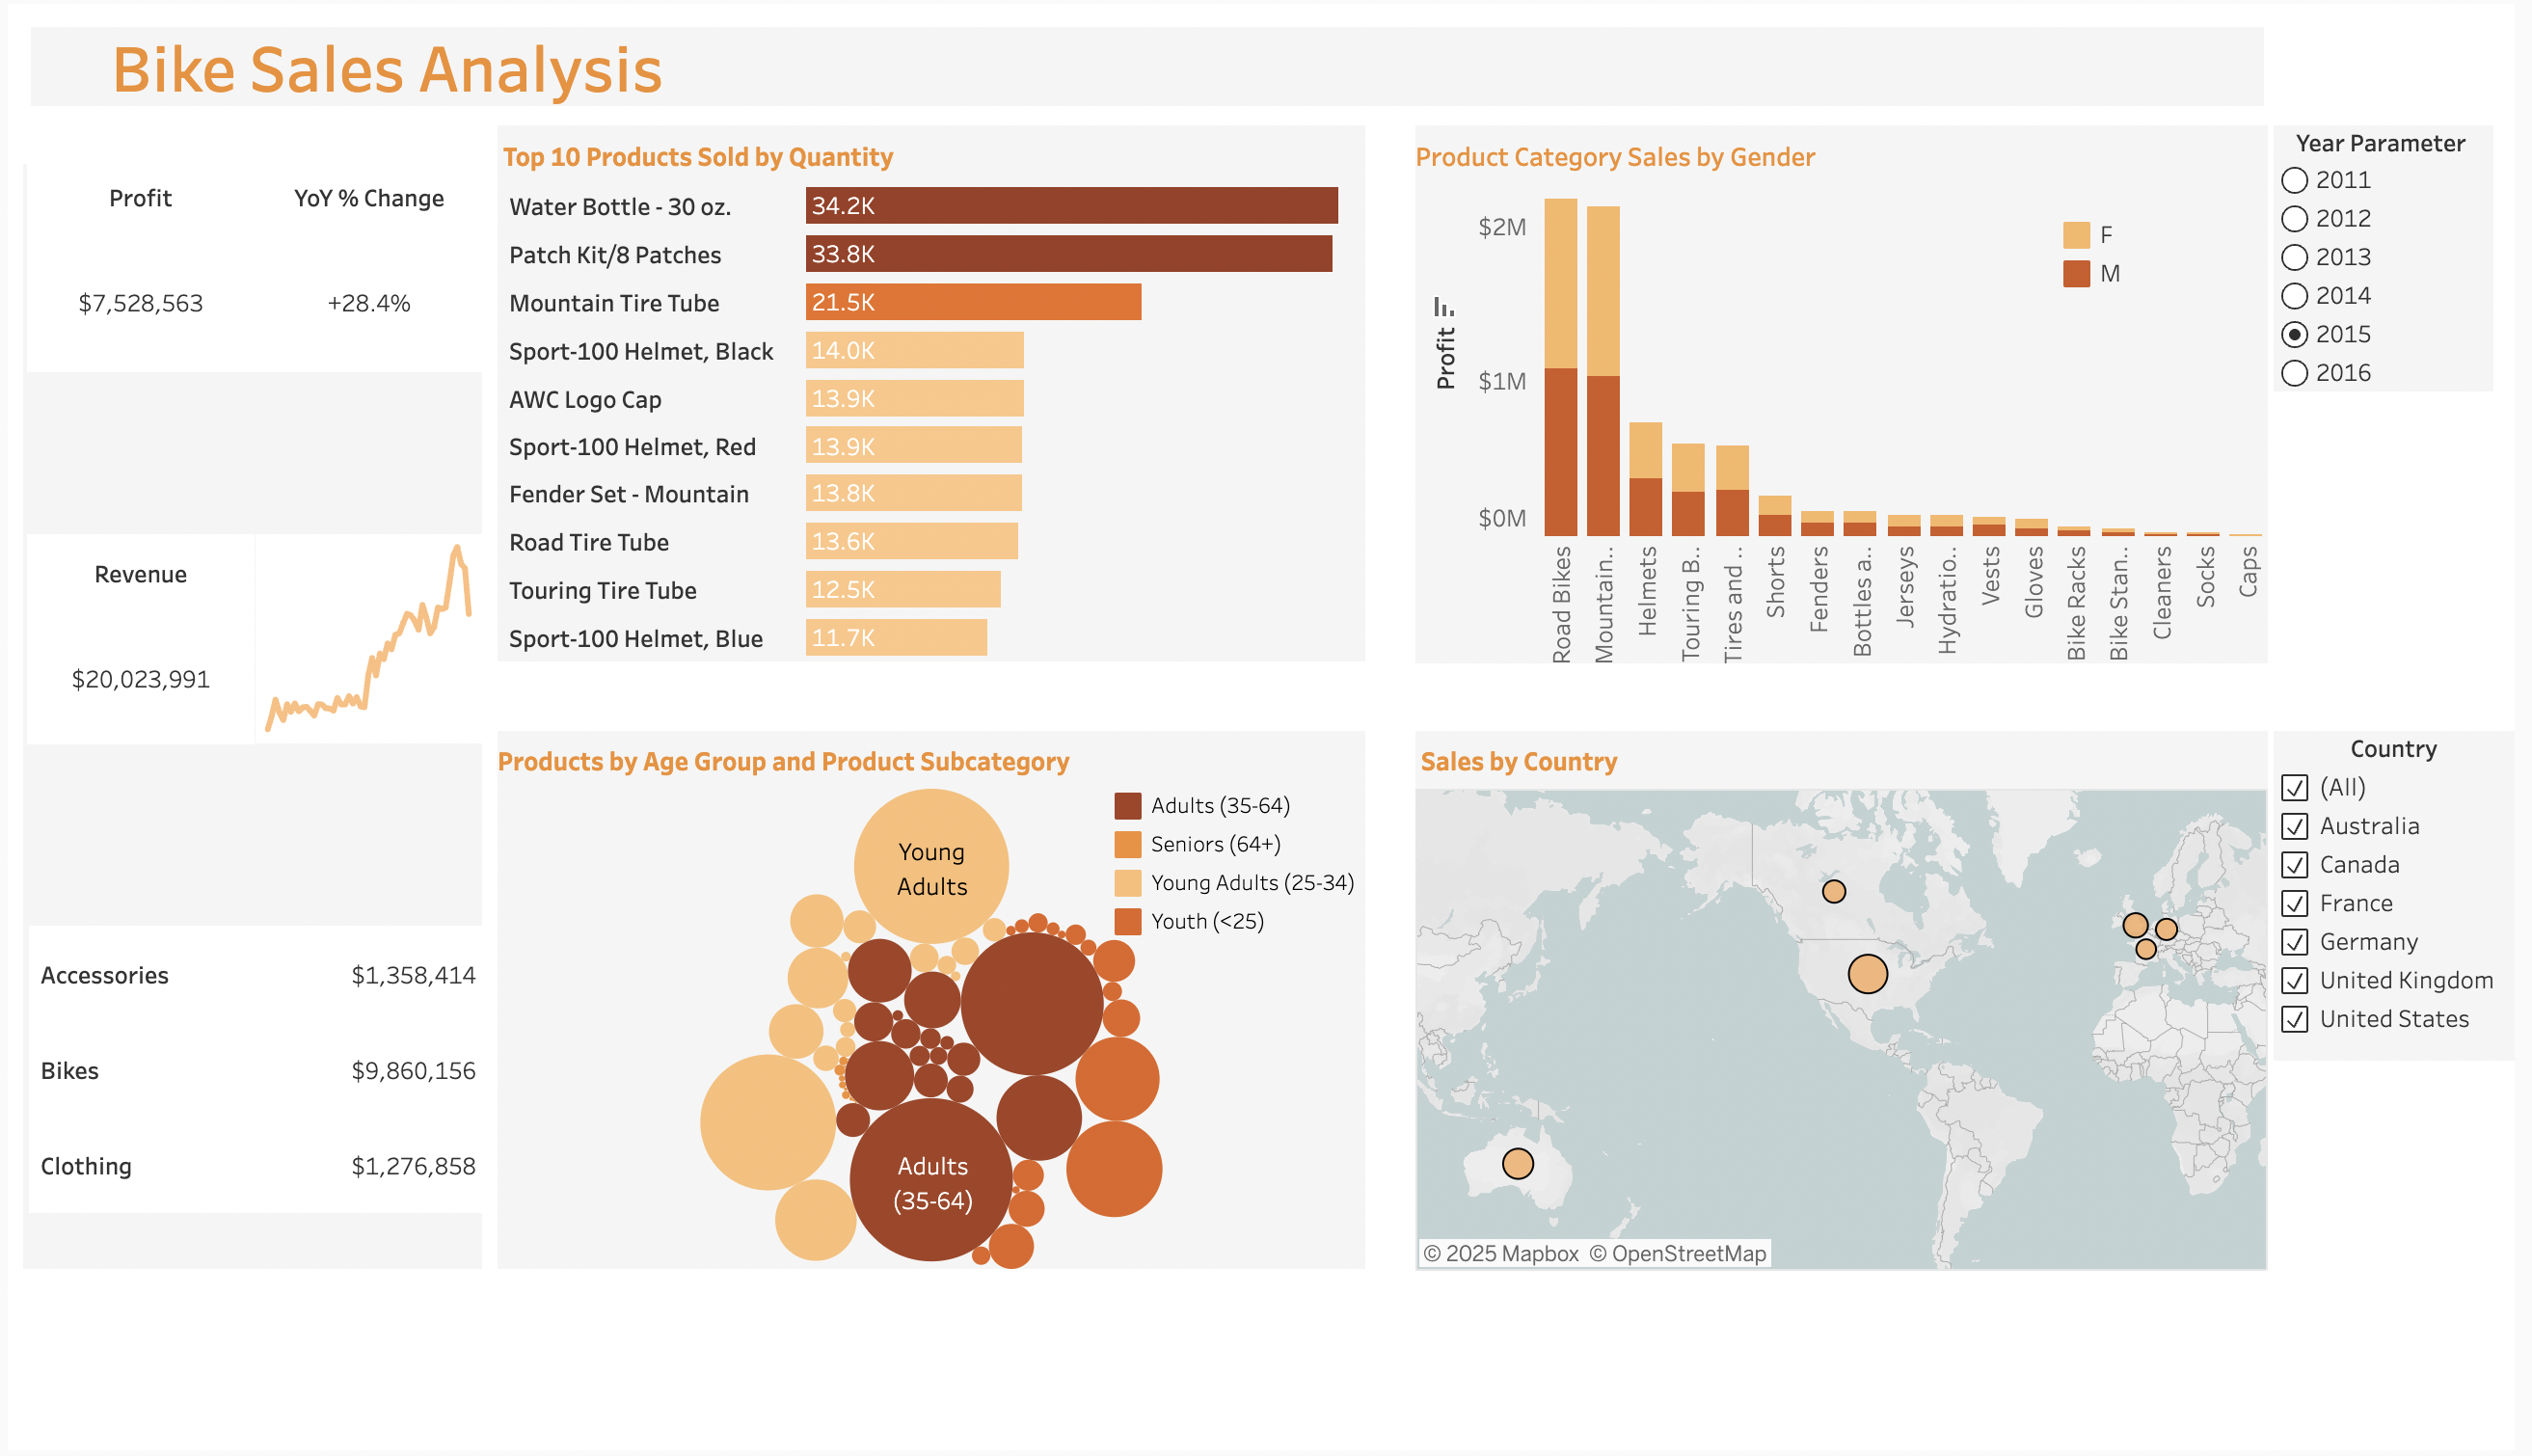

The dashboard page shown, as its layout file describes it:
{"tool":"tableau","page":{"name":"Bike Sales Dashboard","canvas":[1300,750],"ordinal":0},"visuals":[{"type":"title","box":[8,8,1166,49]},{"type":"blank","box":[8,57,1166,685]},{"type":"text","box":[254,63,450,31]},{"type":"text","box":[730,63,442,31]},{"type":"parameter","param":"[Parameters].[Parameter 1]","box":[1175,63,114,138]},{"type":"worksheet","title":"Profit Card","mark":"Automatic","cols":["Calculation_946600386631159809"],"box":[10,82.1,117.9,108.9]},{"type":"worksheet","title":"YoY % change","mark":"Automatic","cols":["Calculation_946600386635194375"],"box":[127.9,82.1,118.9,108.9]},{"type":"worksheet","title":"Top 10 Products","mark":"Bar","rows":["Product"],"box":[254,92,450,249]},{"type":"worksheet","title":"Sub Category Bar Chart","mark":"Automatic","rows":["Profit"],"cols":["Sub_Category"],"box":[730,92,442,250]},{"type":"legend","title":"Sub Category Bar Chart","param":"[federated.01sri0p02e0912140nq9t0uyowcr].[none:Customer_Gender:nk]","box":[1063.2,109.8,120.9,55.4]},{"type":"worksheet","title":"Revenue Card","mark":"Automatic","cols":["Calculation_970736865897320448"],"box":[10,274.9,117.9,108.9]},{"type":"worksheet","title":"Revenue Line Chart","mark":"Automatic","rows":["Revenue"],"cols":["Date"],"box":[127.9,274.9,117.9,108.9]},{"type":"text","box":[254,377,450,30]},{"type":"text","box":[730,377,442,30]},{"type":"filter","title":"Age Group Bubble Chart","param":"[federated.01sri0p02e0912140nq9t0uyowcr].[none:Country:nk]","box":[1175,377,125,171]},{"type":"legend","title":"Age Group Bubble Chart","param":"[federated.01sri0p02e0912140nq9t0uyowcr].[none:Age_Group:nk]","box":[571,406,137,92]},{"type":"worksheet","title":"Age Group Bubble Chart","mark":"Circle","box":[254,407,450,249]},{"type":"worksheet","title":"Map","mark":"Automatic","box":[730,407,442,250]},{"type":"worksheet","title":"Cost Card","mark":"Automatic","rows":["Product_Category"],"box":[11,477.9,235.8,149.4]}]}

Visuals, with their boxes in screenshot pixels (x1, y1, x2, y2), scaled from the page's 1300x750 canvas onto the 2532x1456 screenshot:
title: {"x1": 15, "y1": 15, "x2": 2286, "y2": 111}
blank: {"x1": 15, "y1": 111, "x2": 2286, "y2": 1441}
text: {"x1": 495, "y1": 122, "x2": 1371, "y2": 182}
text: {"x1": 1422, "y1": 122, "x2": 2282, "y2": 182}
parameter: {"x1": 2289, "y1": 122, "x2": 2511, "y2": 391}
"Profit Card" worksheet: {"x1": 19, "y1": 159, "x2": 249, "y2": 371}
"YoY % change" worksheet: {"x1": 249, "y1": 159, "x2": 481, "y2": 371}
"Top 10 Products" worksheet (Bar marks): {"x1": 495, "y1": 178, "x2": 1371, "y2": 662}
"Sub Category Bar Chart" worksheet: {"x1": 1422, "y1": 178, "x2": 2282, "y2": 664}
"Sub Category Bar Chart" legend: {"x1": 2071, "y1": 213, "x2": 2306, "y2": 321}
"Revenue Card" worksheet: {"x1": 19, "y1": 533, "x2": 249, "y2": 745}
"Revenue Line Chart" worksheet: {"x1": 249, "y1": 533, "x2": 479, "y2": 745}
text: {"x1": 495, "y1": 732, "x2": 1371, "y2": 790}
text: {"x1": 1422, "y1": 732, "x2": 2282, "y2": 790}
"Age Group Bubble Chart" filter: {"x1": 2289, "y1": 732, "x2": 2531, "y2": 1064}
"Age Group Bubble Chart" legend: {"x1": 1112, "y1": 788, "x2": 1379, "y2": 967}
"Age Group Bubble Chart" worksheet (Circle marks): {"x1": 495, "y1": 790, "x2": 1371, "y2": 1274}
"Map" worksheet: {"x1": 1422, "y1": 790, "x2": 2282, "y2": 1276}
"Cost Card" worksheet: {"x1": 21, "y1": 928, "x2": 481, "y2": 1218}
